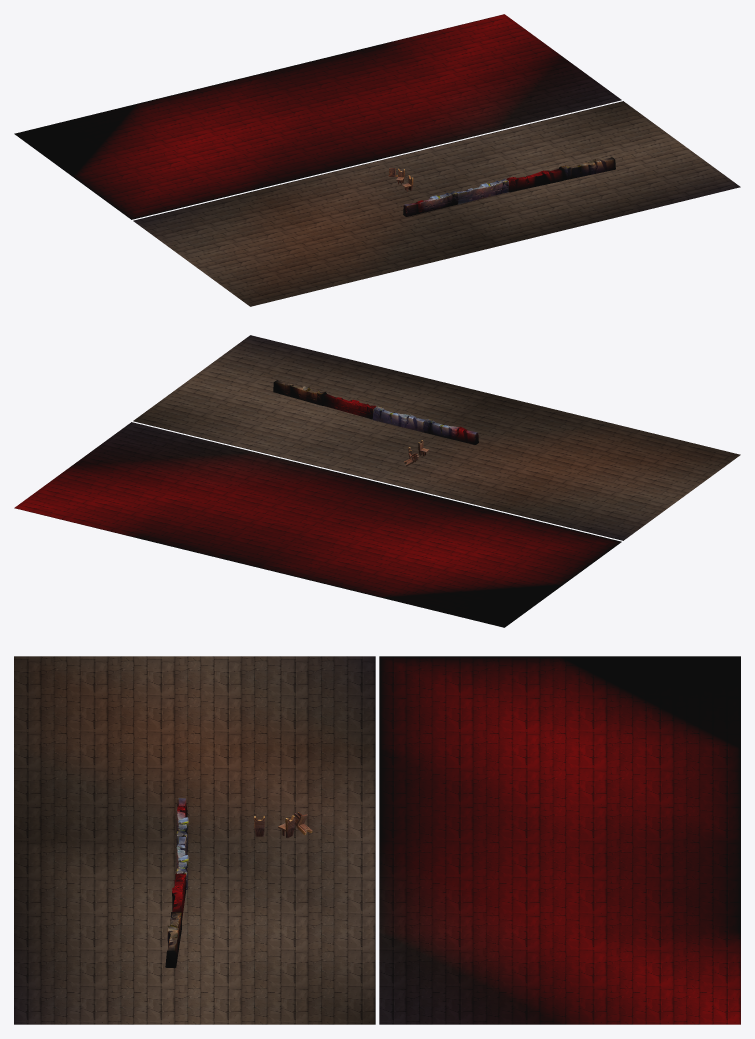
Rendered from town_map.glb.
3 renders of one model, top to bottom at view 1: azimuth 30°, elevation 25°; view 2: azimuth 150°, elevation 25°; view 3: azimuth 270°, elevation 25°, orthographic. The views are drawn at different scales.
Visible parts, largest first — view 1: GroundPainted.001, GroundPainted, WallExport.001, WallExport.004, WallExport.005, WallExport.002; view 2: GroundPainted.001, GroundPainted, WallExport.001, WallExport.002, WallExport.005, WallExport.004; view 3: GroundPainted.001, GroundPainted, WallExport.005.
Boxes of the visible parts, box(x1,y1,x2,y2) form: GroundPainted.001: box(14, 14, 621, 219); GroundPainted: box(133, 101, 740, 306); WallExport.001: box(403, 191, 458, 216); WallExport.004: box(506, 168, 563, 192); WallExport.005: box(558, 157, 615, 180); WallExport.002: box(457, 178, 508, 204); GroundPainted.001: box(14, 422, 621, 627); GroundPainted: box(133, 335, 740, 540); WallExport.001: box(423, 418, 478, 444); WallExport.002: box(372, 406, 425, 432); WallExport.005: box(273, 380, 326, 405); WallExport.004: box(324, 394, 375, 419); GroundPainted.001: box(379, 656, 740, 1024); GroundPainted: box(14, 656, 375, 1024); WallExport.005: box(165, 912, 181, 968).
Size of the model in its own units: 89.56 by 2.36 by 74.73.
Materials: 3 (3 with a texture image).
